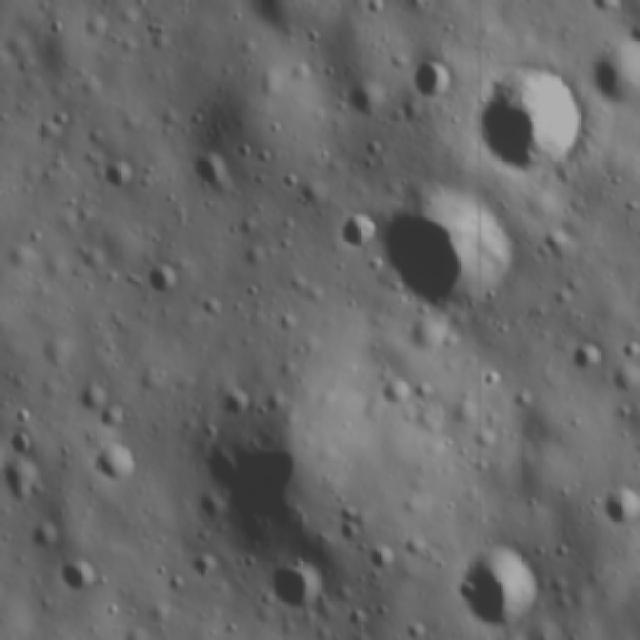crater: (374, 172, 523, 320), (187, 434, 339, 554), (471, 61, 594, 182), (446, 540, 552, 634), (182, 143, 247, 205), (267, 558, 330, 619), (91, 434, 146, 491), (2, 451, 49, 514), (406, 51, 456, 107), (332, 203, 382, 255), (50, 552, 101, 597), (596, 485, 638, 533), (214, 380, 258, 425), (140, 260, 189, 297), (569, 339, 608, 381), (102, 153, 138, 193), (361, 540, 402, 574), (186, 549, 223, 582), (78, 379, 110, 415), (381, 377, 416, 409), (98, 402, 125, 428), (273, 311, 301, 334), (338, 522, 364, 546), (9, 428, 33, 454), (201, 292, 224, 318), (338, 502, 362, 524), (12, 402, 32, 427), (415, 378, 436, 400)
